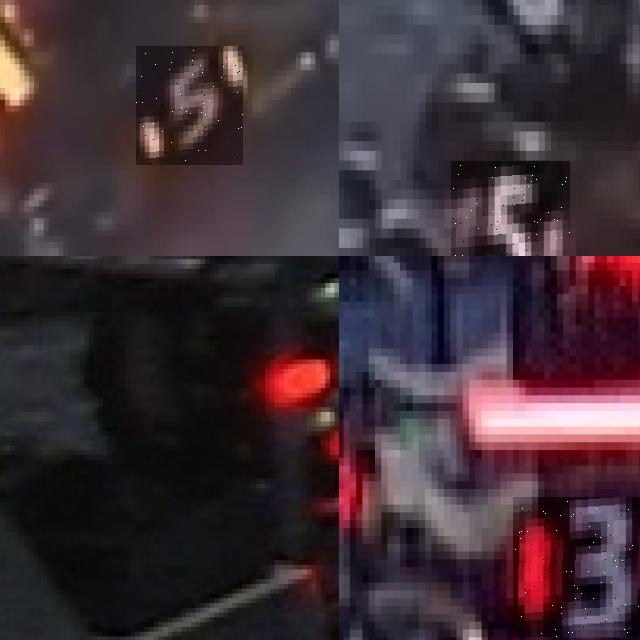R3: (513, 496, 640, 637)
R5: (136, 46, 243, 165), (451, 160, 570, 256)
